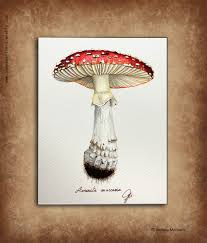Amanita muscaria: (49, 47, 157, 163)
